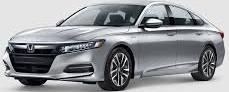Cars: (4, 3, 226, 91)
